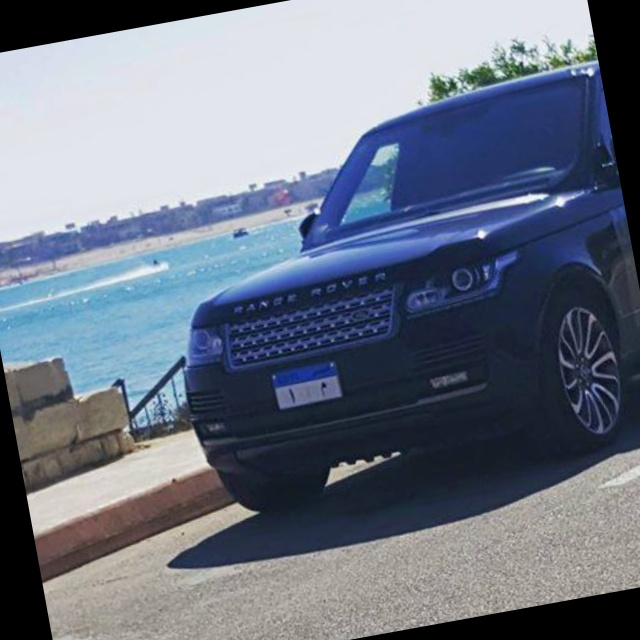License Plate: (267, 356, 345, 412)
